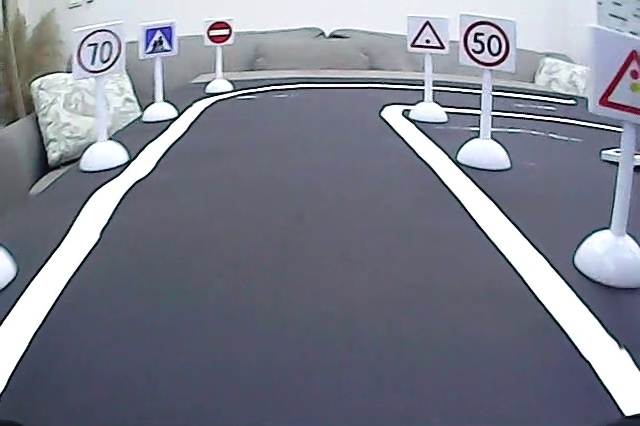do not enter: (205, 20, 233, 46)
green light: (408, 18, 449, 51)
red light: (593, 40, 640, 118)
school crossing: (141, 24, 175, 57)
speed limit 50: (461, 18, 512, 68)
speed limit 70: (76, 24, 123, 76)
